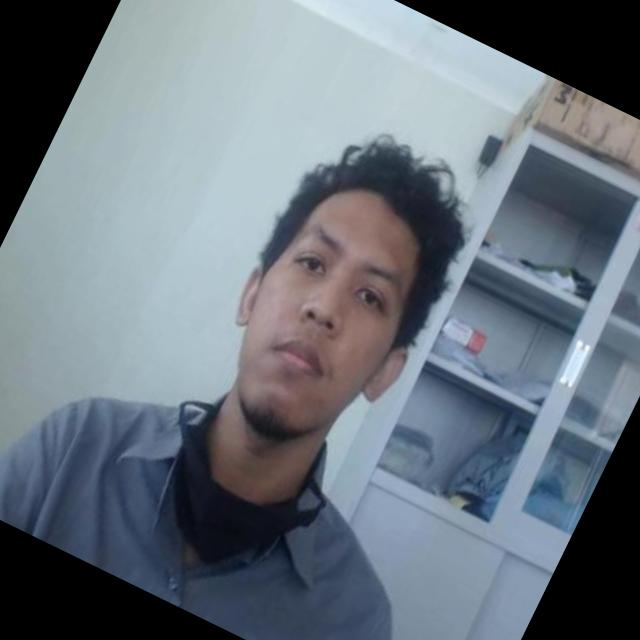bareface: (186, 168, 456, 486)
